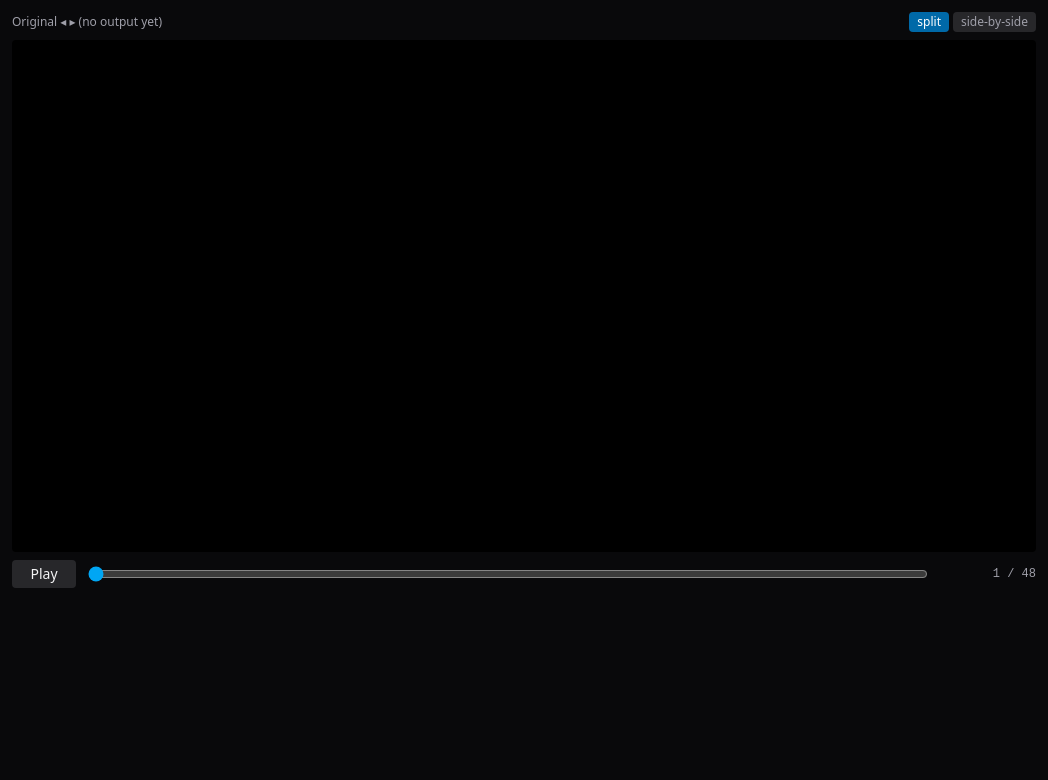
Test: DualCanvasPlayer › scrubs by frame and reports it while paused
Note: fireEvent uses the native value setter, which React's controlled input tracks.
Set the slider named "Frame" to "12" at (306, 574), box left=88, top=566, right=928, bottom=582
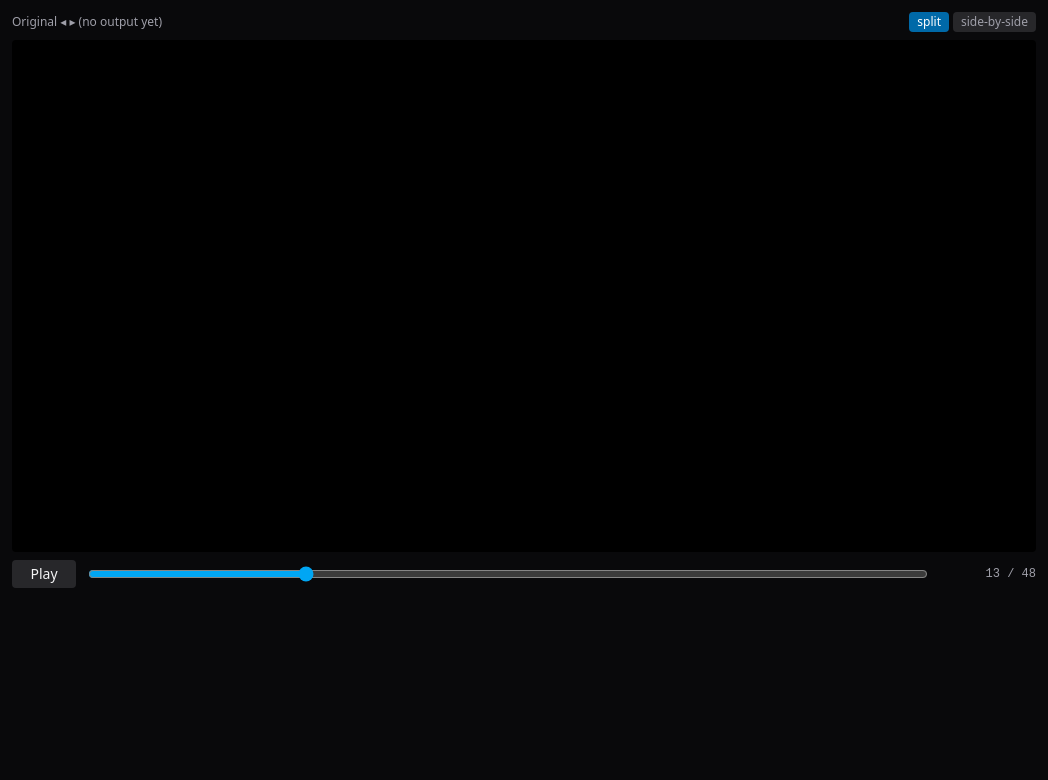
Check: the text with test id "frame-label" reads "13 / 48", box left=986, top=567, right=1036, bottom=581
